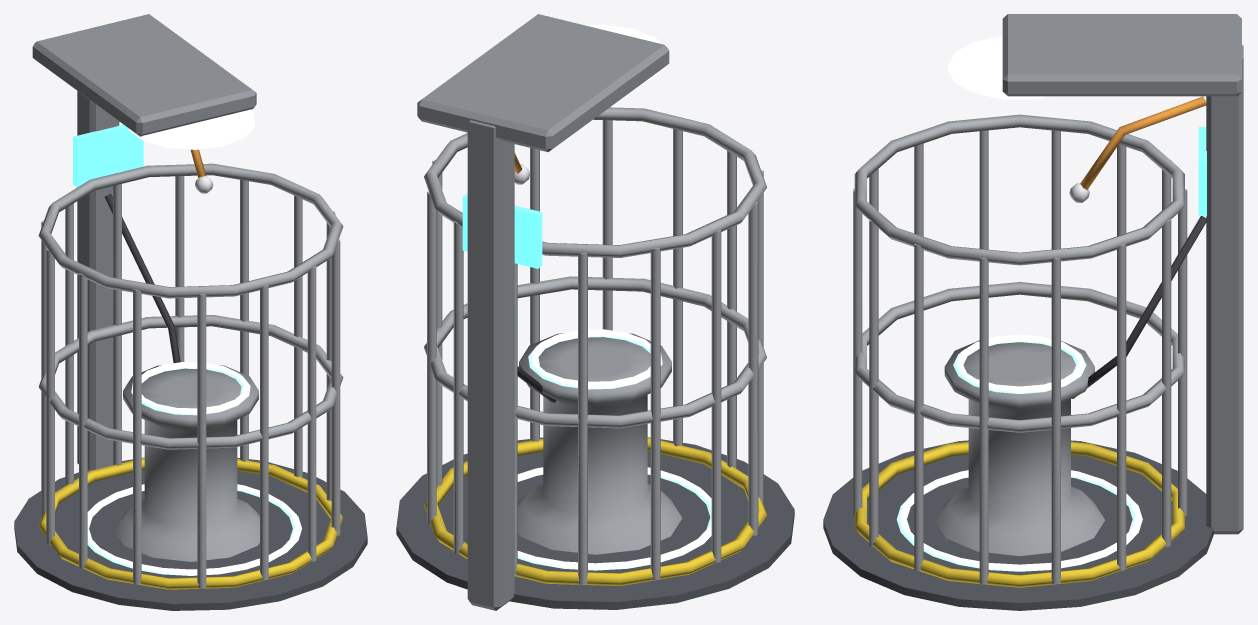
Rendered from rb_station_knife.glb.
The picture shows the model from 3 angles, left to right: view 1: azimuth 30°, elevation 25°; view 2: azimuth 150°, elevation 25°; view 3: azimuth 270°, elevation 25°; orthographic projection. The views are drawn at different scales.
Visible parts, largest first — view 1: rb_station_knife, shutter; view 2: rb_station_knife, shutter; view 3: rb_station_knife, shutter.
Part boxes in pixels (box(x1,y1,x2,y2)): rb_station_knife: box(14, 14, 367, 610); shutter: box(38, 163, 343, 589); rb_station_knife: box(396, 14, 794, 610); shutter: box(424, 107, 766, 585); rb_station_knife: box(823, 14, 1243, 610); shutter: box(853, 114, 1187, 587).
Bounding box in the file's own units: 2.3 × 3.12 × 2.46.
